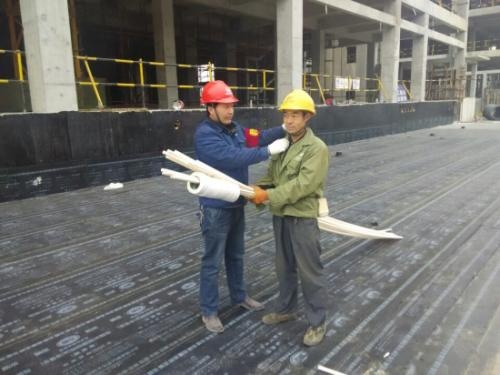red: (197, 78, 240, 131)
yellow: (275, 88, 317, 136)
